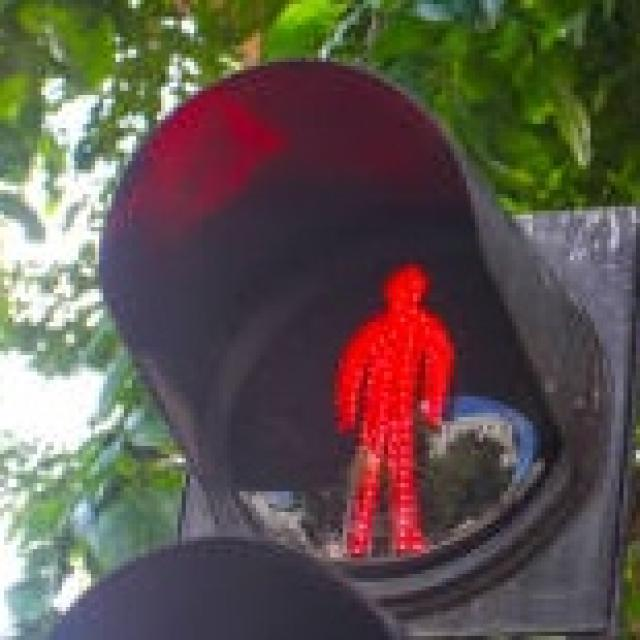red-crossing: (302, 240, 462, 566)
